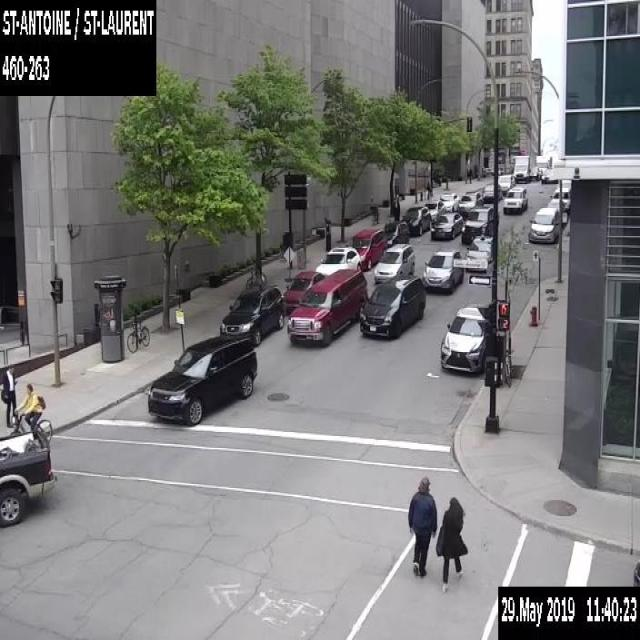construction: (283, 244, 295, 280)
cyclist: (10, 382, 52, 443)
pedestrian: (436, 496, 468, 592), (406, 476, 436, 576), (0, 364, 16, 428), (392, 195, 400, 220), (425, 179, 431, 200), (467, 166, 472, 183)
vehicle: (147, 334, 257, 425), (287, 268, 367, 345), (0, 428, 55, 528), (359, 273, 425, 337), (219, 284, 284, 344), (439, 304, 490, 373), (280, 270, 324, 313), (422, 248, 463, 292), (374, 242, 414, 284), (460, 205, 499, 244), (314, 245, 360, 277), (351, 228, 386, 269), (464, 233, 493, 272), (528, 206, 559, 242), (401, 204, 432, 236), (430, 211, 462, 239), (383, 220, 409, 247), (503, 185, 527, 213), (457, 190, 483, 214), (547, 187, 570, 212), (422, 199, 446, 221), (513, 154, 530, 182), (438, 191, 459, 211), (535, 154, 552, 178), (481, 182, 502, 200), (497, 173, 514, 191), (541, 167, 557, 182), (630, 561, 639, 584), (529, 164, 538, 177), (561, 178, 571, 188), (537, 167, 542, 179)
